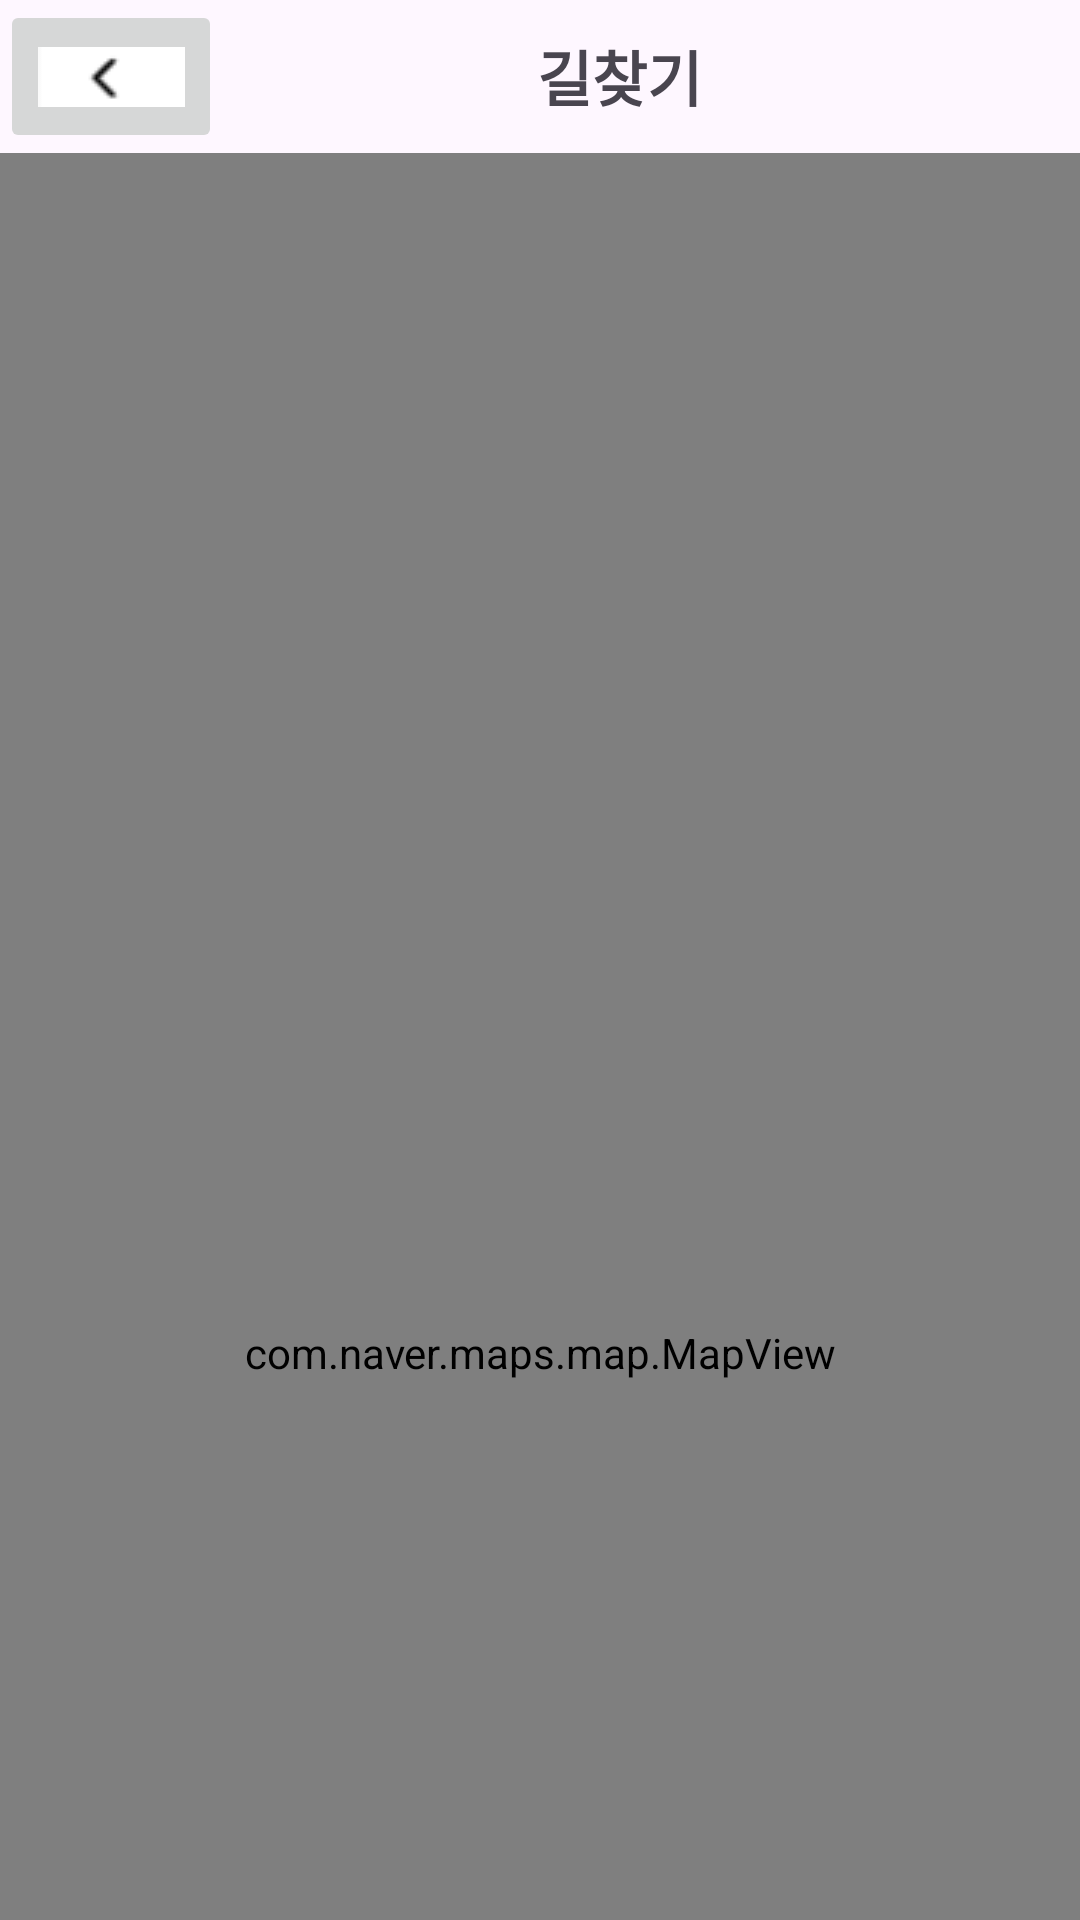

Icons on this 1080*1920 Android screen, each with the point to tap as (x=x, y=y):
back: (x=111, y=76)
